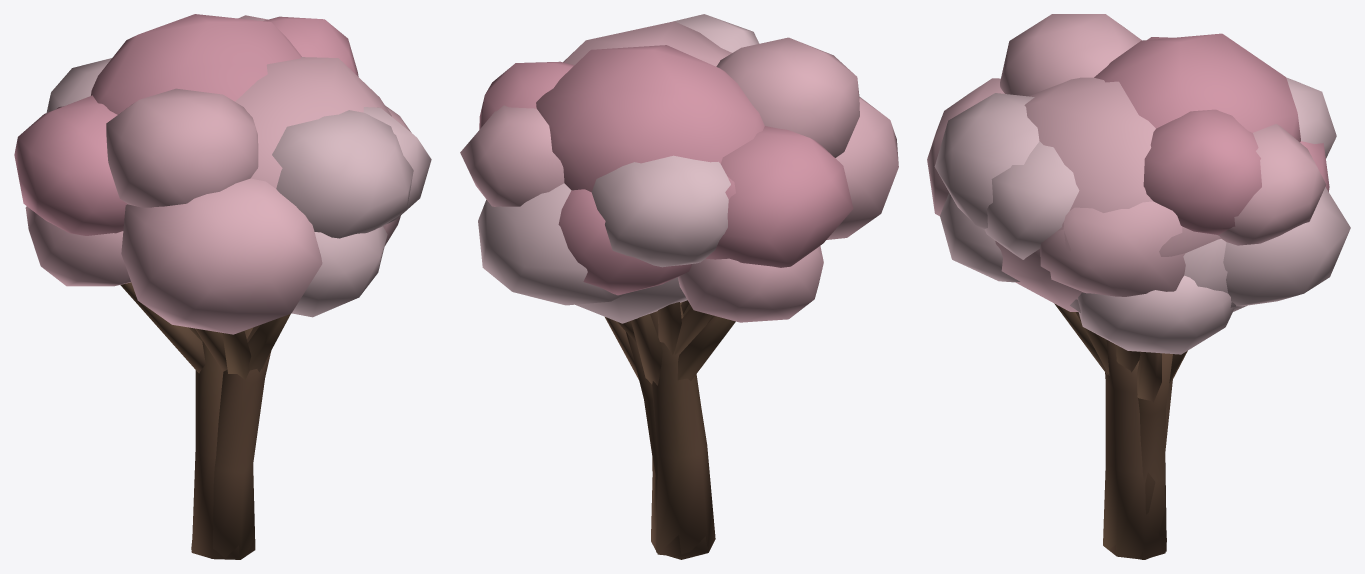
File: tree.sakura.glb
3 renders of one model, left to right at view 1: azimuth 30°, elevation 25°; view 2: azimuth 150°, elevation 25°; view 3: azimuth 270°, elevation 25°, orthographic.
Parts seen in each view (by area): view 1: tree.sakura.v0.canopy, tree.sakura.v2.canopy, tree.sakura.v1.canopy, tree.sakura.v0.trunk, tree.sakura.v2.trunk, tree.sakura.v1.trunk; view 2: tree.sakura.v2.canopy, tree.sakura.v0.canopy, tree.sakura.v1.canopy, tree.sakura.v2.trunk, tree.sakura.v1.trunk, tree.sakura.v0.trunk; view 3: tree.sakura.v2.canopy, tree.sakura.v0.canopy, tree.sakura.v1.canopy, tree.sakura.v0.trunk, tree.sakura.v1.trunk, tree.sakura.v2.trunk.
Part boxes in pixels (bbox=[...]): tree.sakura.v0.canopy: bbox=[57, 57, 413, 334]; tree.sakura.v2.canopy: bbox=[14, 14, 431, 235]; tree.sakura.v1.canopy: bbox=[25, 206, 387, 317]; tree.sakura.v0.trunk: bbox=[191, 325, 271, 559]; tree.sakura.v2.trunk: bbox=[188, 327, 224, 558]; tree.sakura.v1.trunk: bbox=[120, 282, 290, 558]; tree.sakura.v2.canopy: bbox=[460, 37, 859, 267]; tree.sakura.v0.canopy: bbox=[478, 14, 898, 305]; tree.sakura.v1.canopy: bbox=[558, 189, 823, 323]; tree.sakura.v2.trunk: bbox=[650, 300, 715, 559]; tree.sakura.v1.trunk: bbox=[605, 314, 735, 555]; tree.sakura.v0.trunk: bbox=[618, 302, 714, 556]; tree.sakura.v2.canopy: bbox=[984, 14, 1336, 259]; tree.sakura.v0.canopy: bbox=[927, 77, 1350, 311]; tree.sakura.v1.canopy: bbox=[940, 141, 1329, 354]; tree.sakura.v0.trunk: bbox=[1075, 312, 1166, 559]; tree.sakura.v1.trunk: bbox=[1054, 303, 1187, 559]; tree.sakura.v2.trunk: bbox=[1145, 378, 1172, 552].
Bounding box in the file's own units: 1.65 × 2.25 × 1.69.
